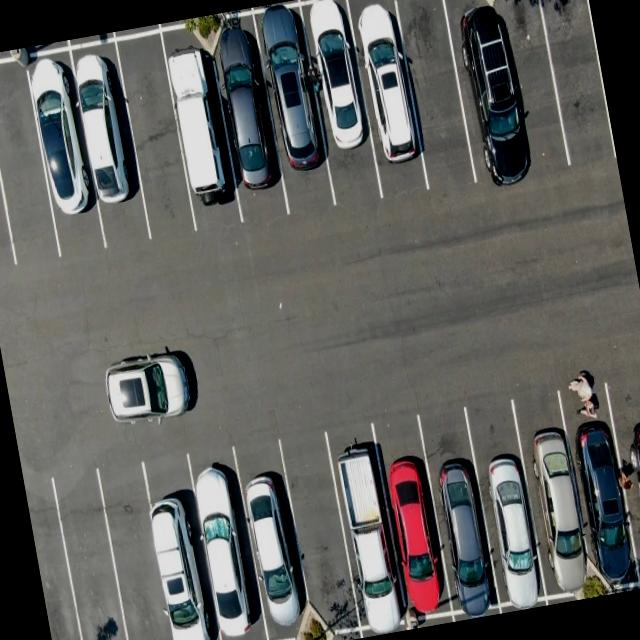car: (512, 388, 598, 600), (463, 394, 548, 606), (21, 46, 106, 255), (417, 403, 502, 611), (296, 0, 383, 202), (68, 37, 150, 251), (250, 2, 334, 210), (343, 0, 431, 197), (323, 426, 409, 627), (205, 17, 289, 222), (557, 379, 640, 585), (159, 32, 243, 232), (371, 418, 453, 622), (135, 449, 222, 640), (439, 0, 530, 181), (230, 438, 312, 635), (186, 443, 265, 640), (605, 367, 640, 586)
free: (112, 31, 198, 238), (275, 430, 362, 631), (389, 0, 476, 188), (47, 465, 132, 640), (532, 0, 615, 167), (98, 464, 174, 640), (494, 0, 569, 173), (0, 56, 61, 262)
